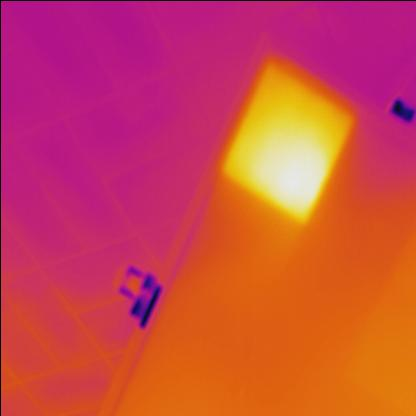hotspot: (212, 54, 360, 228)
